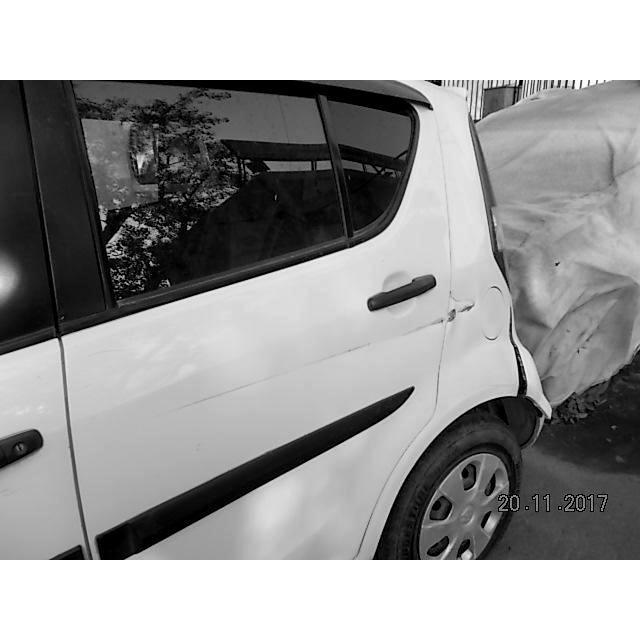doorouter-dent: (74, 263, 447, 559)
quaterpanel-dent: (442, 236, 527, 493)
